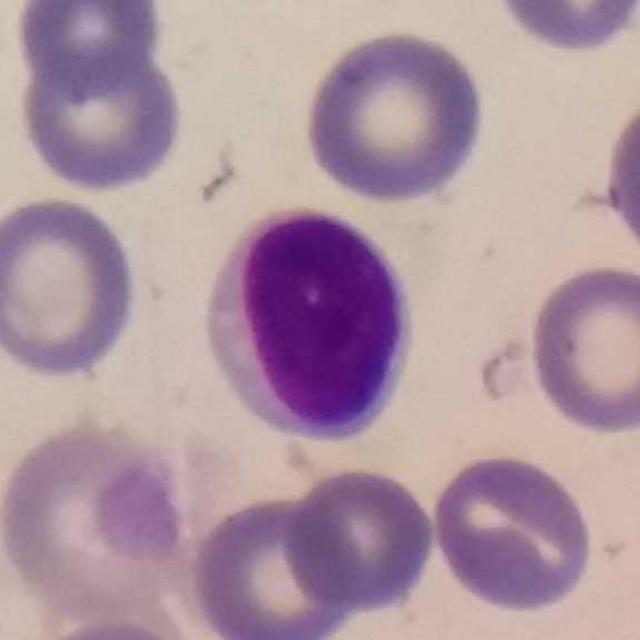Lymphocyte: (196, 197, 425, 450)
RBC: (0, 415, 195, 628), (298, 25, 492, 207), (426, 448, 599, 616), (0, 190, 146, 383), (10, 42, 191, 197), (183, 488, 361, 640), (280, 462, 441, 617), (523, 260, 640, 438), (6, 0, 169, 92), (489, 0, 640, 57), (599, 79, 640, 272), (22, 613, 204, 640)
